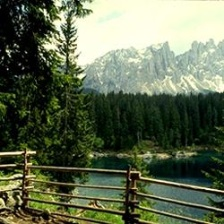neutral: (1, 2, 223, 219)
